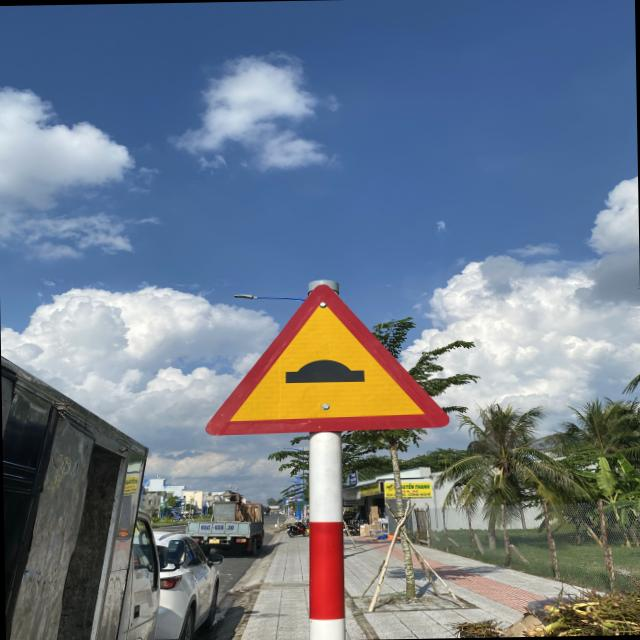Duong_Cong_Ben_Phai: (204, 283, 446, 435)
